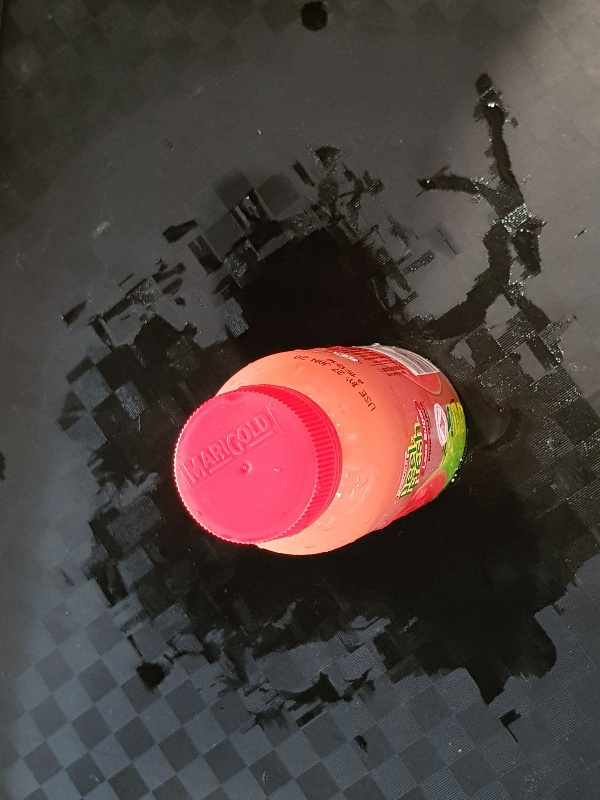Marigold Peel Fresh Pink Guava Juice Drink: (169, 344, 465, 557)
